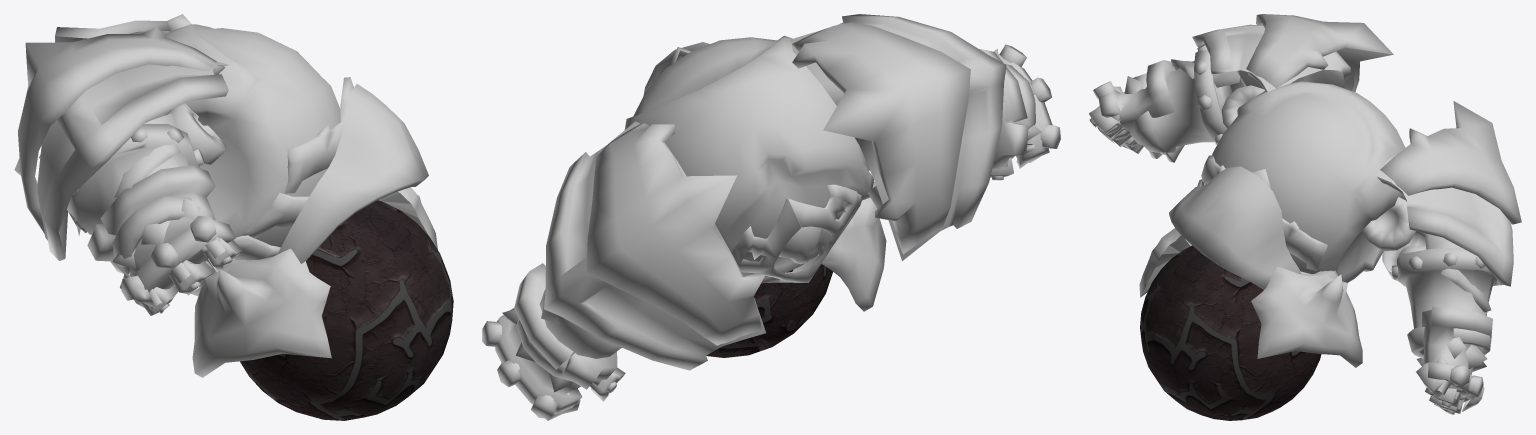
3 views of the same model, side by side, from view 1: azimuth 30°, elevation 25°; view 2: azimuth 150°, elevation 25°; view 3: azimuth 270°, elevation 25° (orthographic). The views are drawn at different scales.
Visible parts, largest first — view 1: ironreaver01; view 2: ironreaver01; view 3: ironreaver01.
Boxes of the visible parts, box(x1,y1,x2,y2) form: ironreaver01: box(14, 14, 453, 420); ironreaver01: box(482, 14, 1060, 420); ironreaver01: box(1089, 14, 1521, 420).
Bounding box in the file's own units: 1.31 × 1.21 × 1.52.
